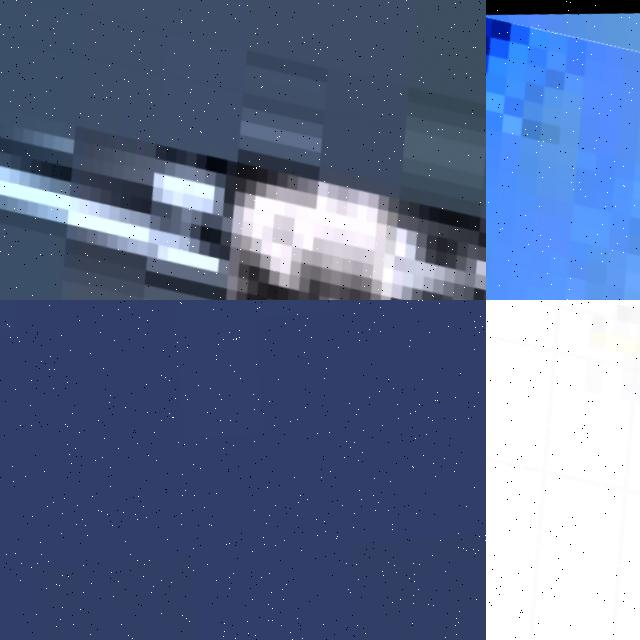drone: (0, 0, 486, 300), (486, 300, 640, 640), (486, 0, 640, 300)
